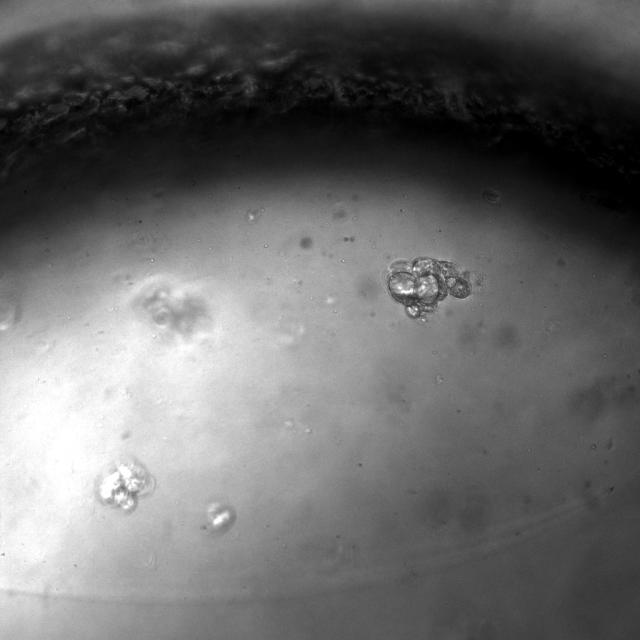organoid: (384, 257, 471, 321), (98, 460, 154, 510)
